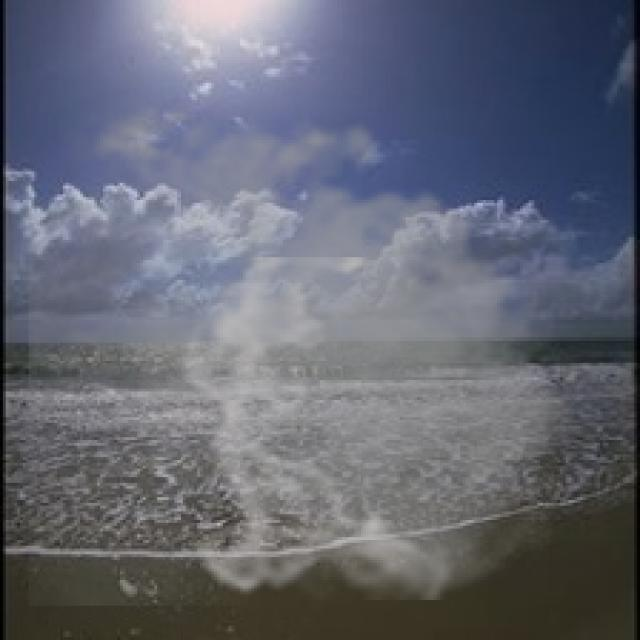Smoke: (29, 89, 598, 606)
